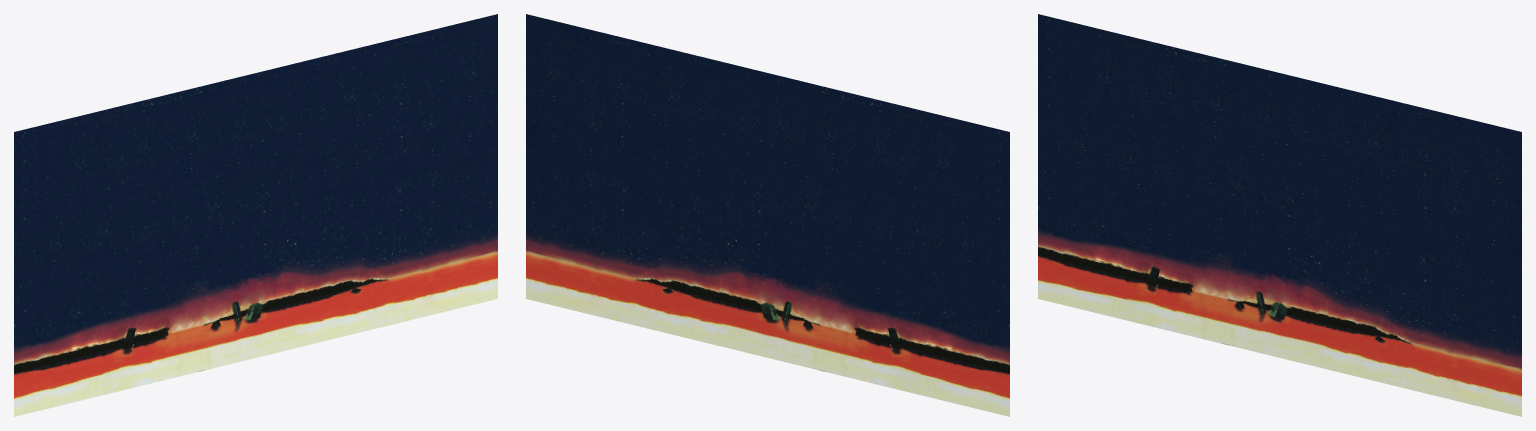
The model's file is background.glb.
3 views of the same model, side by side, from view 1: azimuth 30°, elevation 25°; view 2: azimuth 150°, elevation 25°; view 3: azimuth 330°, elevation 25° (orthographic).
Visible parts, largest first — view 1: background; view 2: background; view 3: background.
Part boxes in pixels (x1,y1,x2,y2): background: [14, 14, 497, 416]; background: [526, 14, 1009, 416]; background: [1038, 14, 1521, 416].
Bounding box in the file's own units: 921 × 518 × 0.000122.
1 material, 1 textured.
